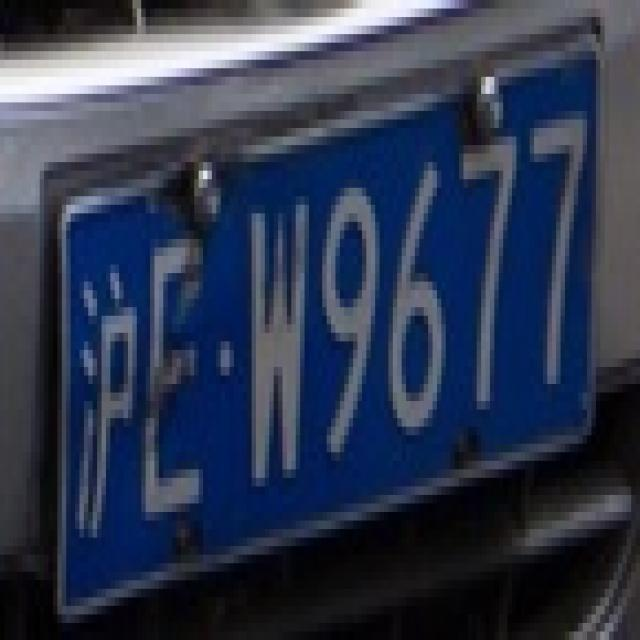licenseplate: (32, 22, 610, 622)
